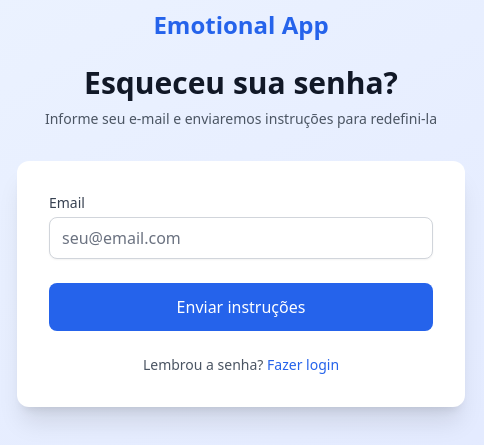
ForgotPasswordPage (KAN-17/KAN-78) › valid email: shows the generic success message, regardless of whether the account exists
The image size is (484, 445).
Type "qualquer@example.com" into the field labelled "Email".
click(241, 238); type("qualquer@example.com")  # box [49,217,433,259]
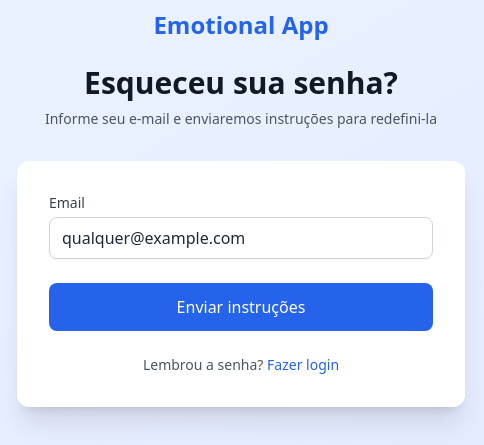
Click the button "Enviar instruções".
click(241, 307)  # box [49,283,433,331]
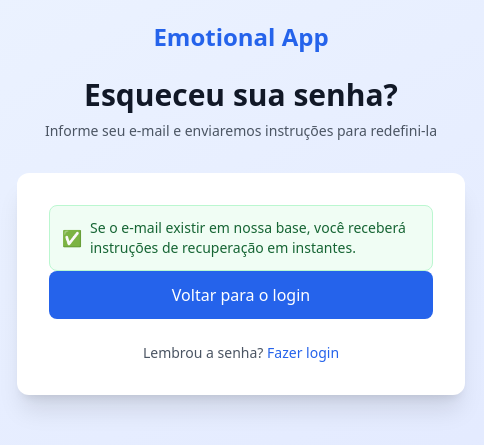
Result: the text "Se o e-mail existir em nossa base" is shown at [90,218,406,257]
